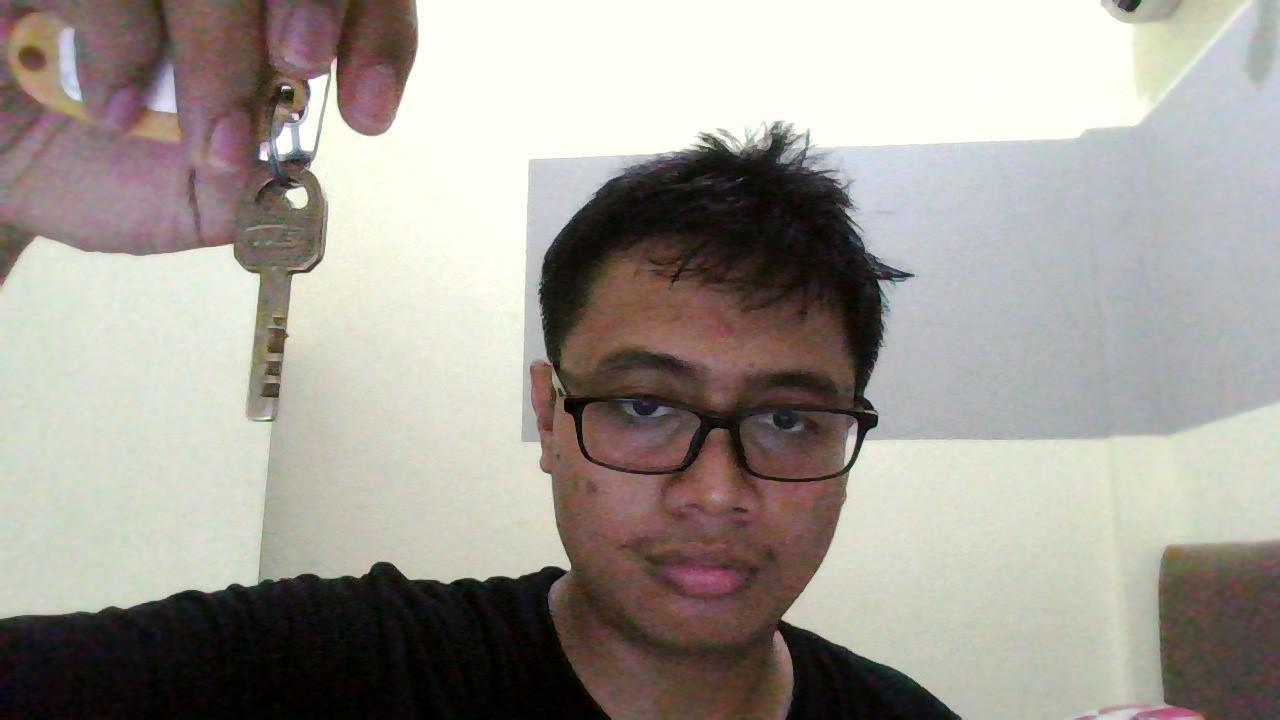keys: (221, 142, 341, 429)
